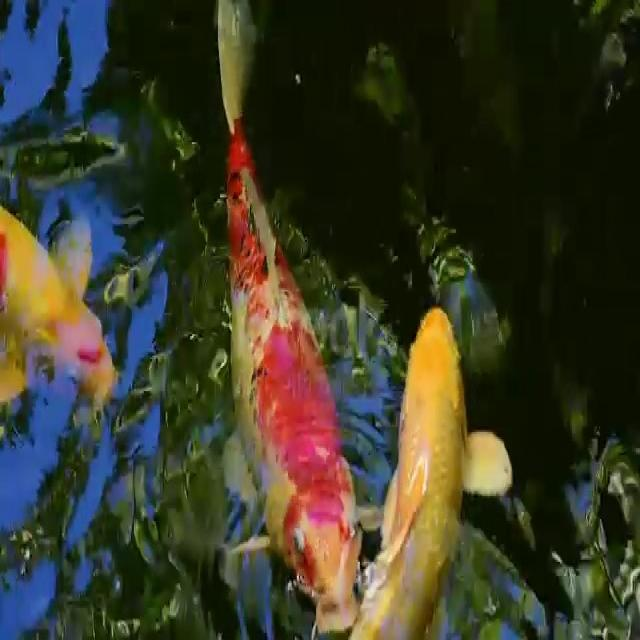fish: (197, 0, 358, 640), (359, 306, 493, 640), (1, 190, 129, 436)
